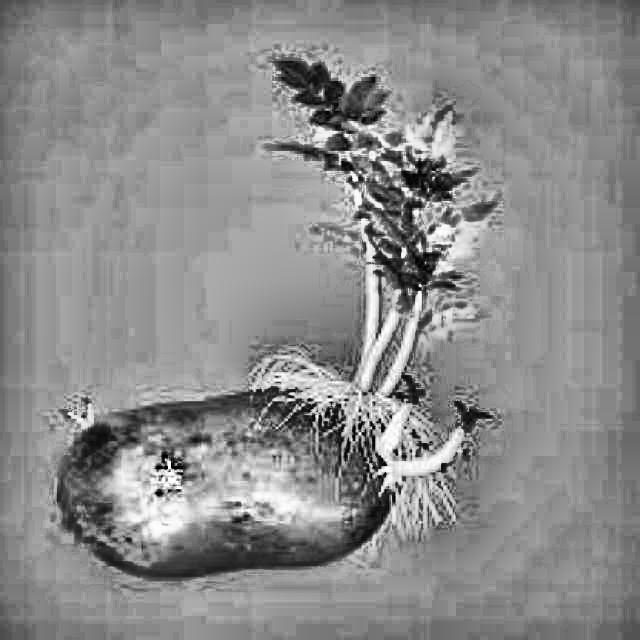plants: (262, 31, 530, 374)
